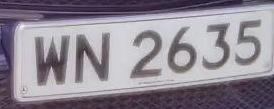2: (126, 24, 167, 82)
3: (198, 17, 233, 70)
5: (232, 15, 265, 68)
6: (163, 21, 202, 75)
N: (73, 27, 115, 92)
W: (29, 29, 73, 93)
